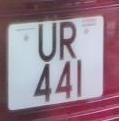1: (73, 59, 88, 101)
4: (31, 58, 58, 107), (55, 59, 76, 104)
R: (57, 16, 80, 65)
U: (34, 19, 60, 64)
